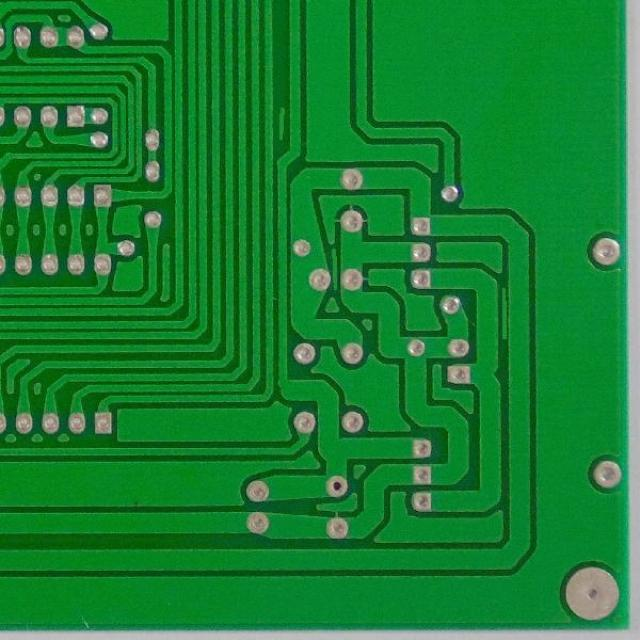spurious_copper: (321, 242, 350, 301), (499, 283, 513, 342), (272, 101, 287, 143)
